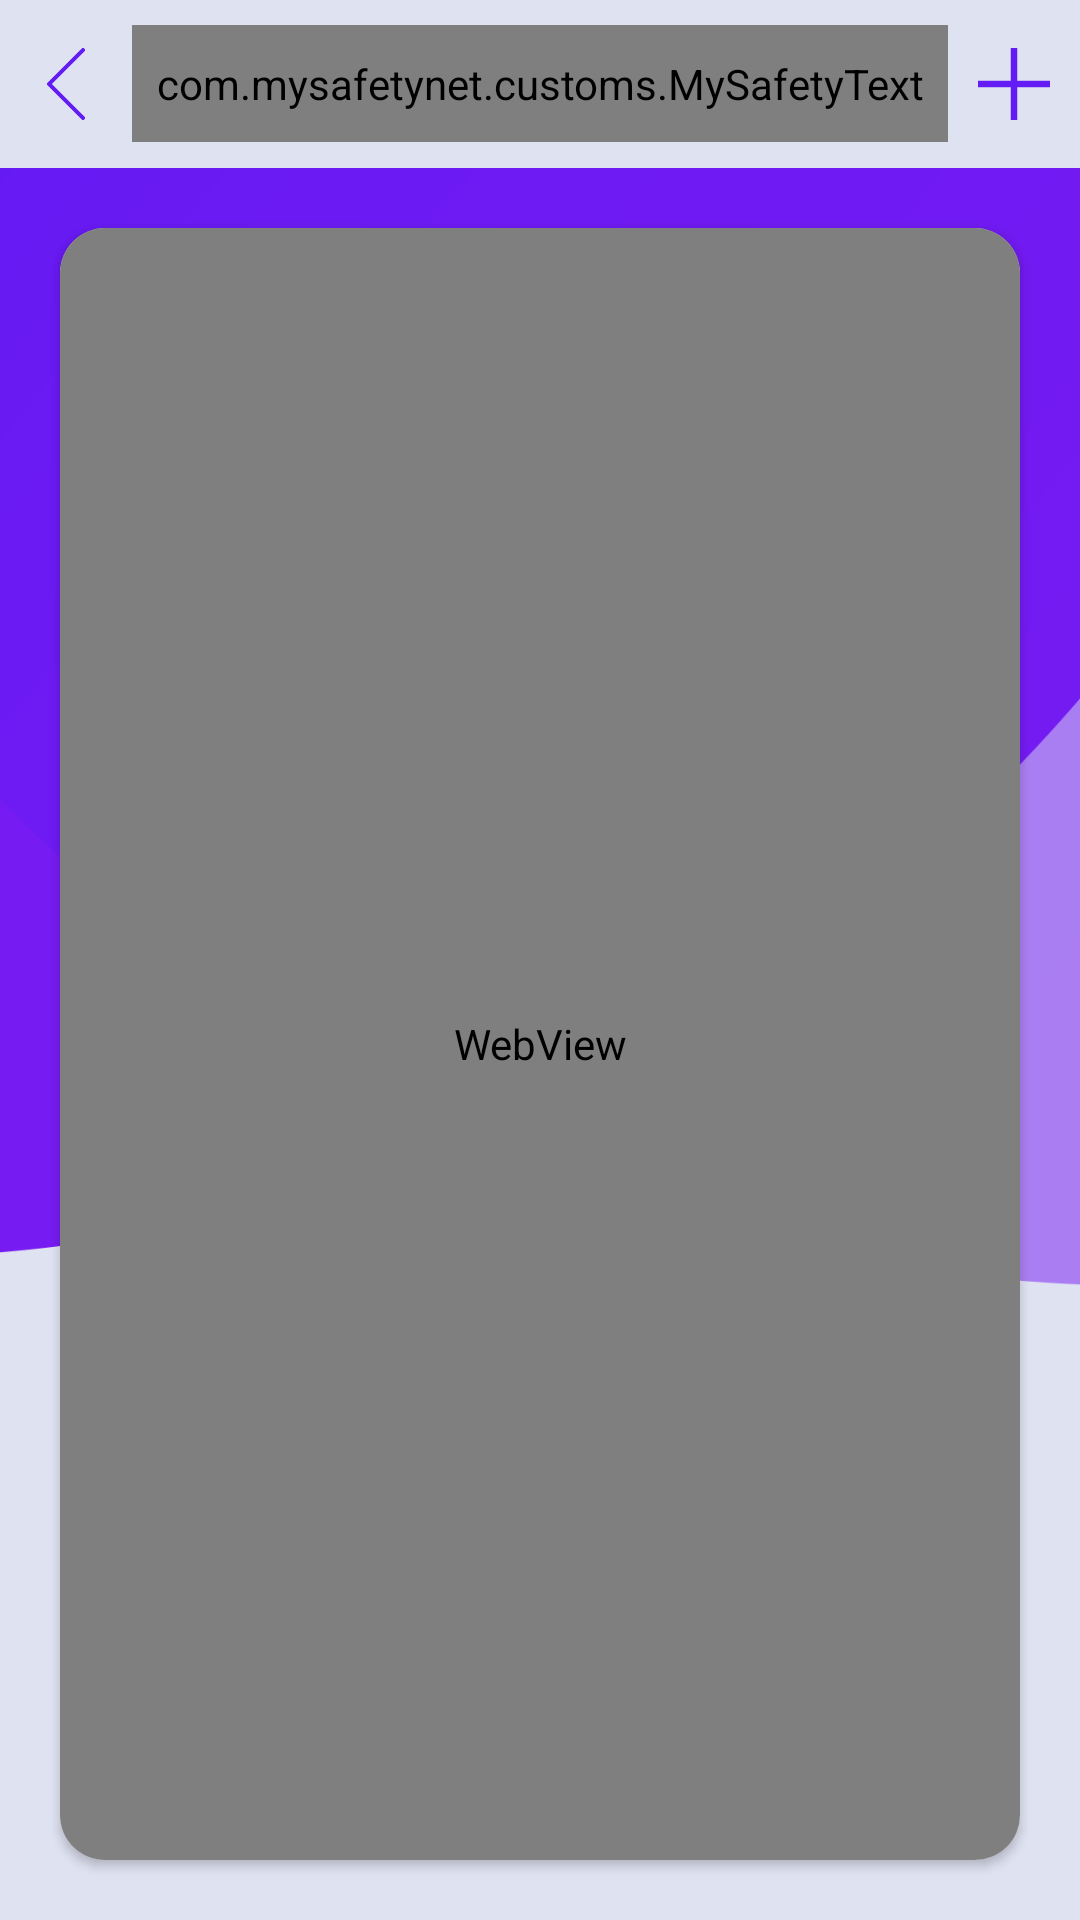

Screen size 1080*1920. Icon name, then its center in pixels as [x,y]:
add: [1014,84]
back: [66,84]
